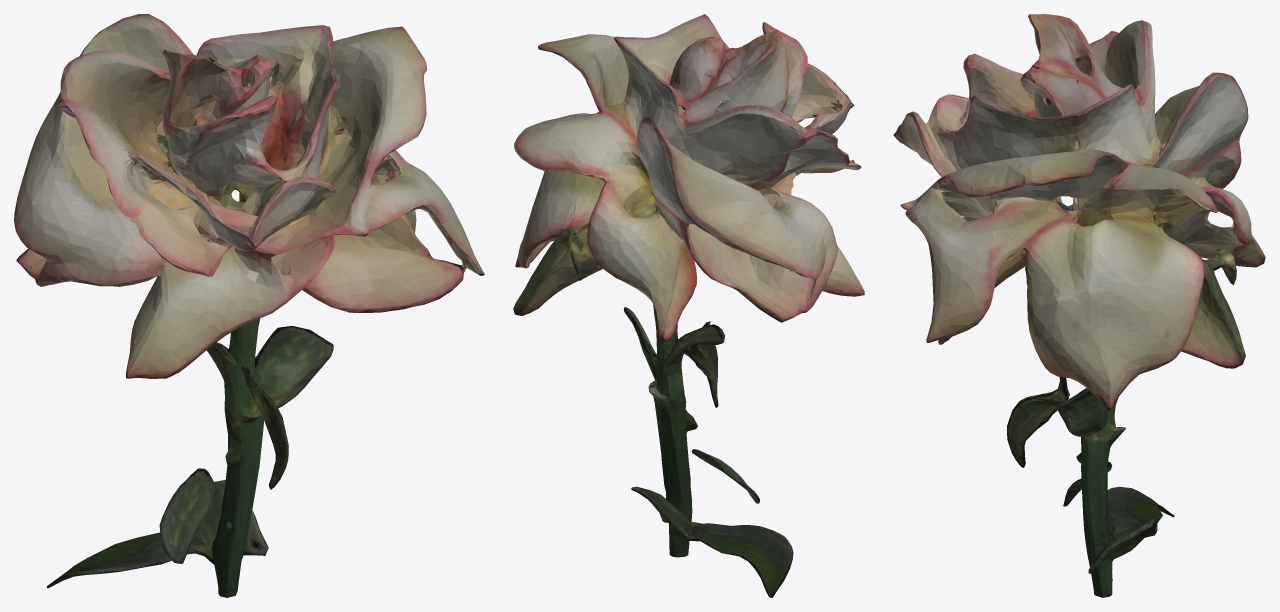
3 renders of one model, left to right at view 1: azimuth 30°, elevation 25°; view 2: azimuth 150°, elevation 25°; view 3: azimuth 270°, elevation 25°, orthographic. The views are drawn at different scales.
Parts seen in each view (by area): view 1: world; view 2: world; view 3: world.
Part boxes in pixels (box(x1,y1,x2,y2)): world: box(14, 14, 484, 597); world: box(513, 14, 864, 597); world: box(893, 14, 1265, 597).
Bounding box in the file's own units: 0.592 × 0.9142 × 0.5651.
1 material, 1 textured.
